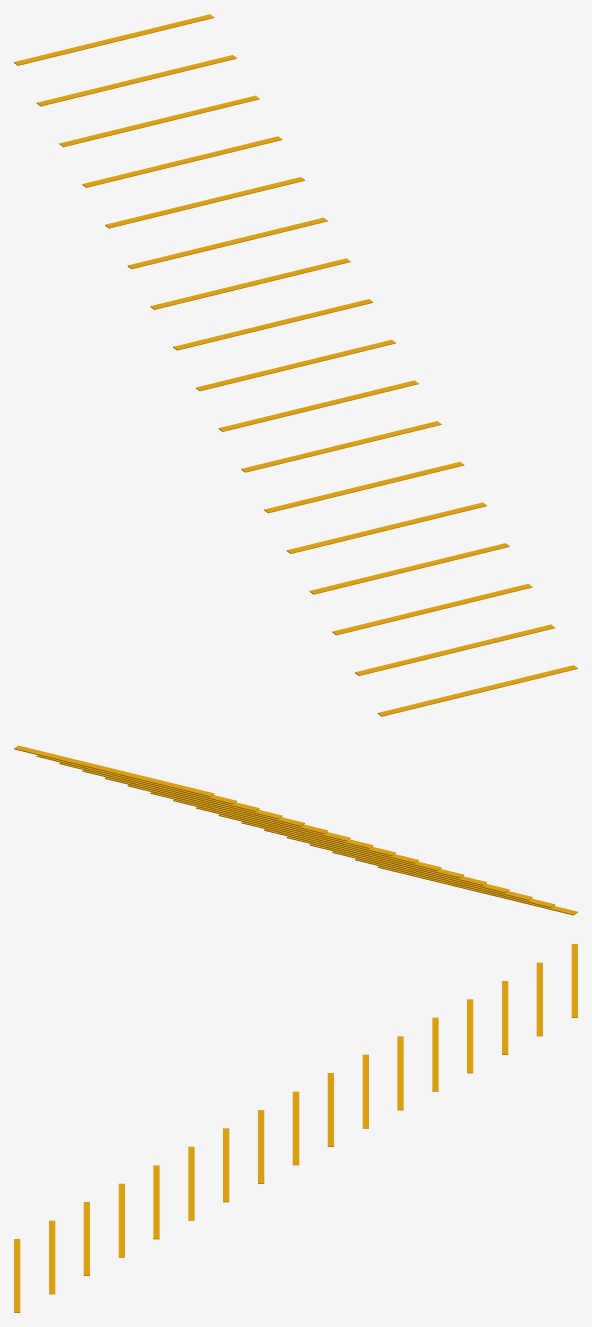
File: gteki_ik_stair_n17_r1756_t301_w1515_nosing.glb
The picture shows the model from 3 angles, top to bottom: view 1: azimuth 30°, elevation 25°; view 2: azimuth 150°, elevation 25°; view 3: azimuth 270°, elevation 25°; orthographic projection. The views are drawn at different scales.
Visible parts, largest first — view 1: VIS_body; view 2: VIS_body; view 3: VIS_body.
Part boxes in pixels (left/top/right/bottom): VIS_body: left=14, top=14, right=577, bottom=716; VIS_body: left=14, top=745, right=577, bottom=915; VIS_body: left=14, top=944, right=577, bottom=1312.
Size of the model in its own units: 1.5 by 2.82 by 4.87.
Materials: 1 (1 with a texture image).
